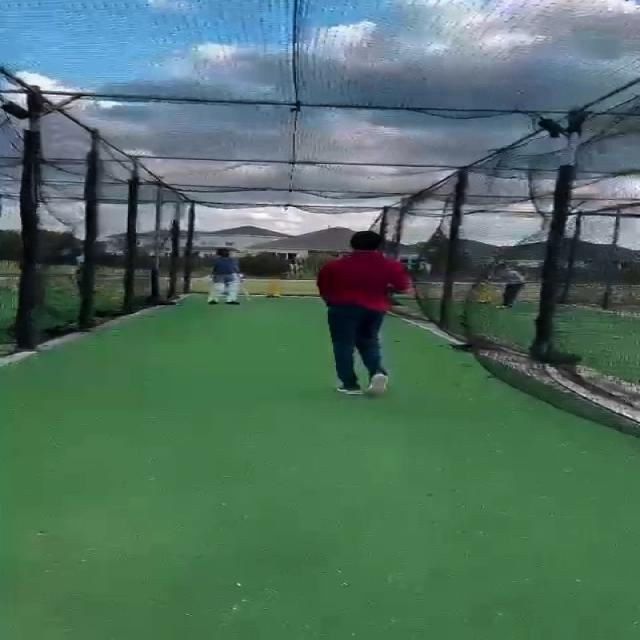batsman: (205, 247, 254, 306)
